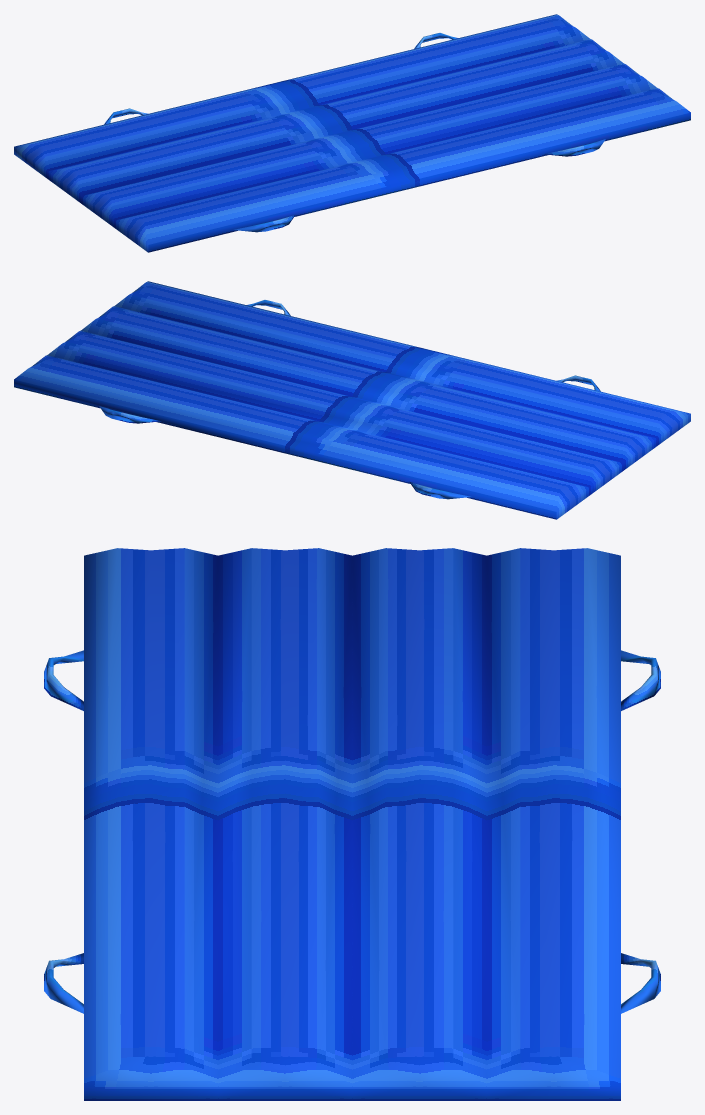
The model's file is int_wrs_boxingmat.dae.
The picture shows the model from 3 angles, top to bottom: view 1: azimuth 30°, elevation 25°; view 2: azimuth 150°, elevation 25°; view 3: azimuth 270°, elevation 25°; orthographic projection. The views are drawn at different scales.
Visible parts, largest first — view 1: int_wrs_boxingmat; view 2: int_wrs_boxingmat; view 3: int_wrs_boxingmat.
Part boxes in pixels (bbox=[...]): int_wrs_boxingmat: bbox=[14, 14, 690, 252]; int_wrs_boxingmat: bbox=[14, 281, 690, 519]; int_wrs_boxingmat: bbox=[44, 548, 660, 1100].
Bounding box in the file's own units: 56 × 1.64 × 27.58.
Materials: 1 (1 with a texture image).
